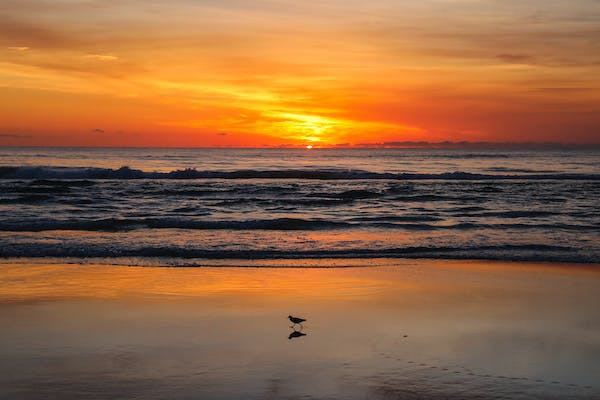Walking: (274, 306, 322, 340)
